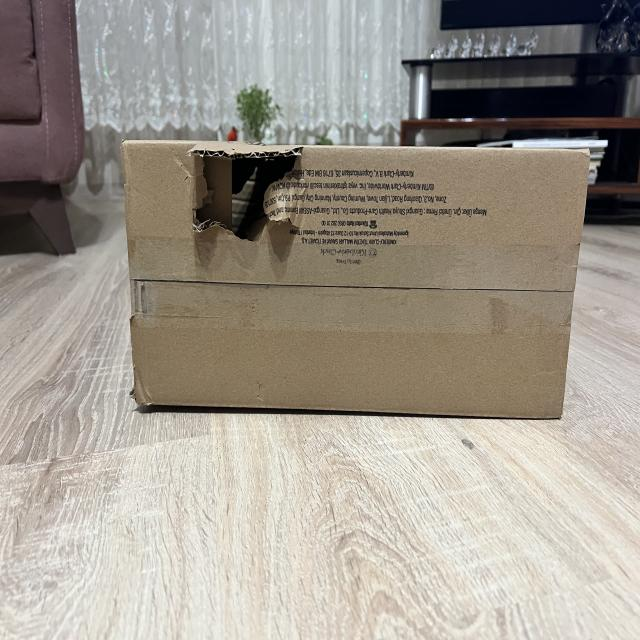damaged: (117, 132, 594, 422), (184, 136, 314, 251)
